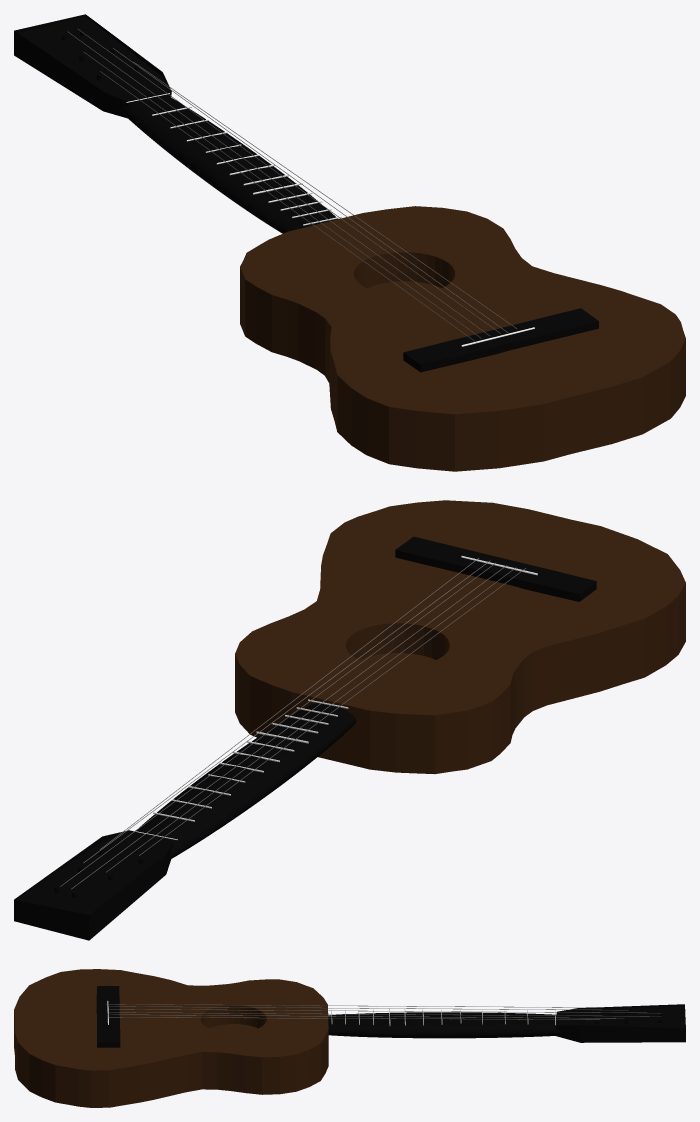
The model's file is guitarra.glb.
3 renders of one model, top to bottom at view 1: azimuth 30°, elevation 25°; view 2: azimuth 150°, elevation 25°; view 3: azimuth 270°, elevation 25°, orthographic. The views are drawn at different scales.
Parts seen in each view (by area): view 1: Plane, Plane.001, Plane.002, Plane.003; view 2: Plane, Plane.001, Plane.002, Plane.003; view 3: Plane, Plane.001, Plane.002, Plane.003, NurbsPath.004, NurbsPath.003, NurbsPath.001, NurbsPath.005, NurbsPath, NurbsPath.002.
Boxes of the visible parts, left/top/right/bottom form: Plane: left=240, top=206, right=685, bottom=471; Plane.001: left=119, top=94, right=337, bottom=233; Plane.002: left=14, top=14, right=171, bottom=118; Plane.003: left=403, top=308, right=598, bottom=372; Plane: left=235, top=500, right=685, bottom=774; Plane.001: left=136, top=703, right=356, bottom=859; Plane.002: left=14, top=830, right=173, bottom=940; Plane.003: left=395, top=536, right=596, bottom=601; Plane: left=14, top=969, right=328, bottom=1107; Plane.001: left=328, top=1012, right=561, bottom=1038; Plane.002: left=556, top=1004, right=685, bottom=1042; Plane.003: left=96, top=986, right=120, bottom=1047; NurbsPath.004: left=109, top=1012, right=661, bottom=1016; NurbsPath.003: left=109, top=1009, right=660, bottom=1013; NurbsPath.001: left=109, top=1006, right=628, bottom=1010; NurbsPath.005: left=108, top=1014, right=623, bottom=1018; NurbsPath: left=109, top=1017, right=600, bottom=1019; NurbsPath.002: left=106, top=1004, right=596, bottom=1007.
Bounding box in the file's own units: 5.81 × 1.19 × 16.25.
